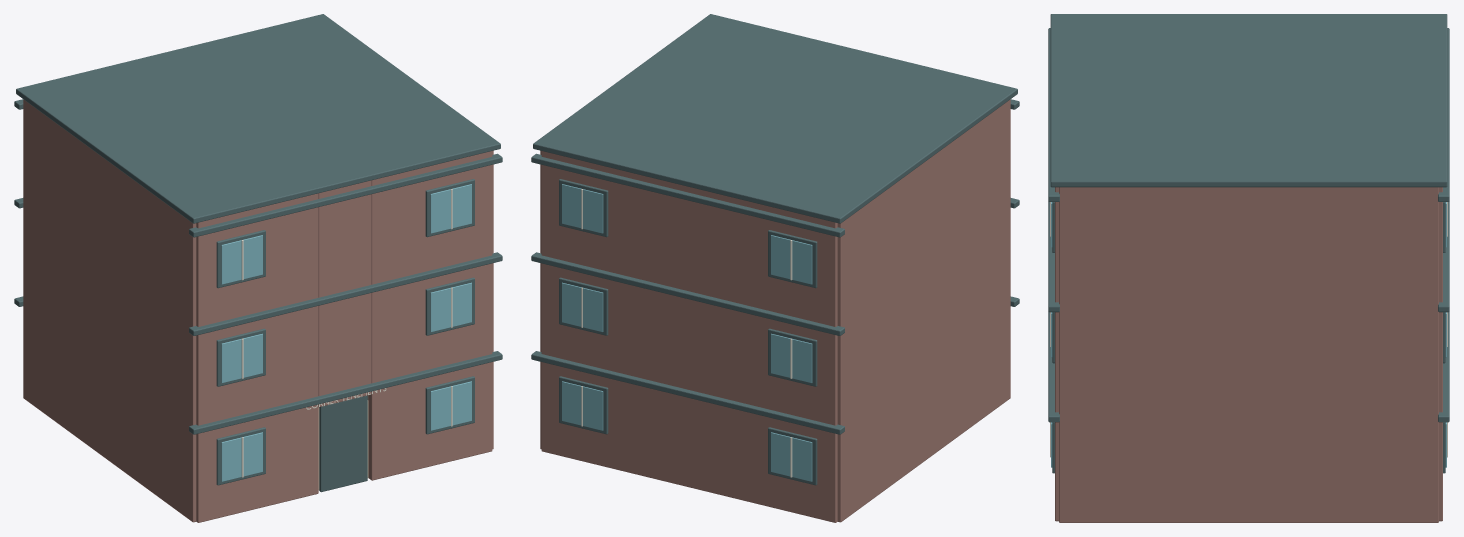
The model's file is tenement.glb.
3 renders of one model, left to right at view 1: azimuth 30°, elevation 25°; view 2: azimuth 150°, elevation 25°; view 3: azimuth 270°, elevation 25°, orthographic. The views are drawn at different scales.
Visible parts, largest first — view 1: shell-wall, roof-trim, shell-trim, shell-glass, door leaf, shell-white; view 2: shell-wall, roof-trim, shell-trim, shell-glass, shell-white; view 3: shell-wall, roof-trim, shell-trim, shell-glass.
Part boxes in pixels (left/top/right/bottom): shell-wall: left=23, top=99, right=493, bottom=522; roof-trim: left=16, top=14, right=500, bottom=223; shell-trim: left=14, top=99, right=502, bottom=485; shell-glass: left=221, top=184, right=471, bottom=481; door leaf: left=319, top=395, right=367, bottom=492; shell-white: left=241, top=189, right=452, bottom=477; shell-wall: left=540, top=99, right=1010, bottom=522; roof-trim: left=533, top=14, right=1017, bottom=223; shell-trim: left=531, top=99, right=1019, bottom=485; shell-glass: left=562, top=184, right=812, bottom=481; shell-white: left=581, top=189, right=792, bottom=477; shell-wall: left=1055, top=187, right=1442, bottom=522; roof-trim: left=1050, top=14, right=1447, bottom=187; shell-trim: left=1048, top=28, right=1449, bottom=473; shell-glass: left=1051, top=202, right=1446, bottom=467.
Bounding box in the file's own units: 10.5 × 10 × 10.56.
